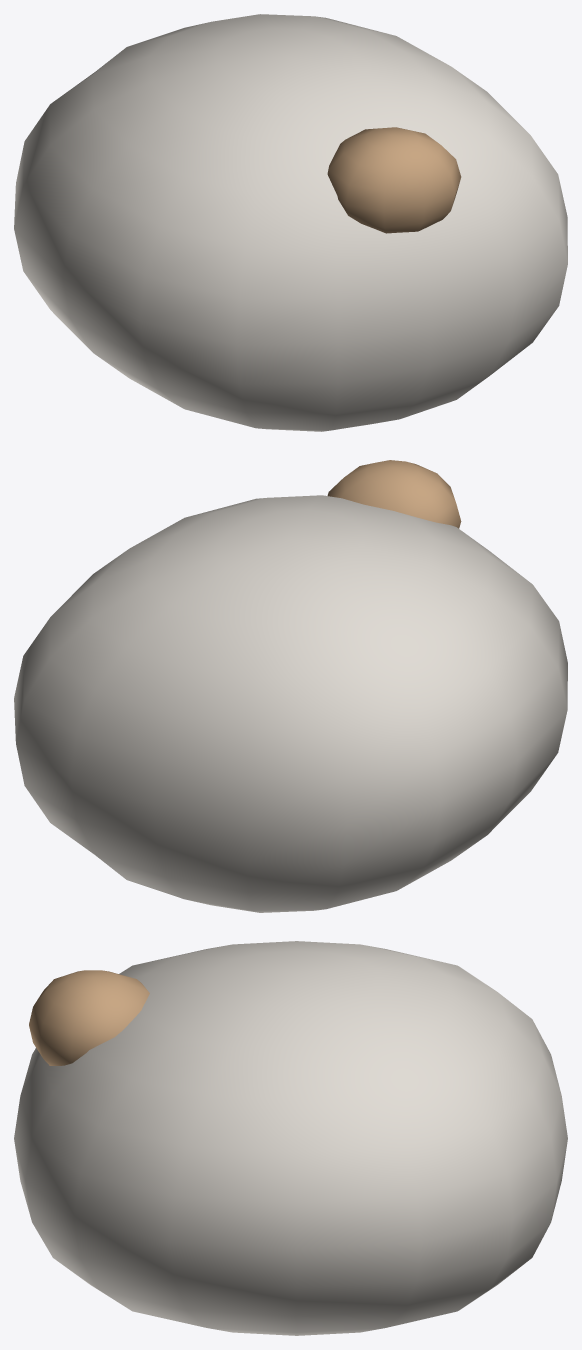
Rendered from muzzle-short-cat.glb.
3 views of the same model, one above another, from view 1: azimuth 30°, elevation 25°; view 2: azimuth 150°, elevation 25°; view 3: azimuth 270°, elevation 25° (orthographic).
Visible parts, largest first — view 1: muzzle-short-cat; view 2: muzzle-short-cat; view 3: muzzle-short-cat.
Part boxes in pixels (bbox=[...]): muzzle-short-cat: bbox=[14, 14, 567, 431]; muzzle-short-cat: bbox=[14, 460, 567, 912]; muzzle-short-cat: bbox=[14, 941, 567, 1335].
Size of the model in its own units: 0.15 by 0.104 by 0.159.
